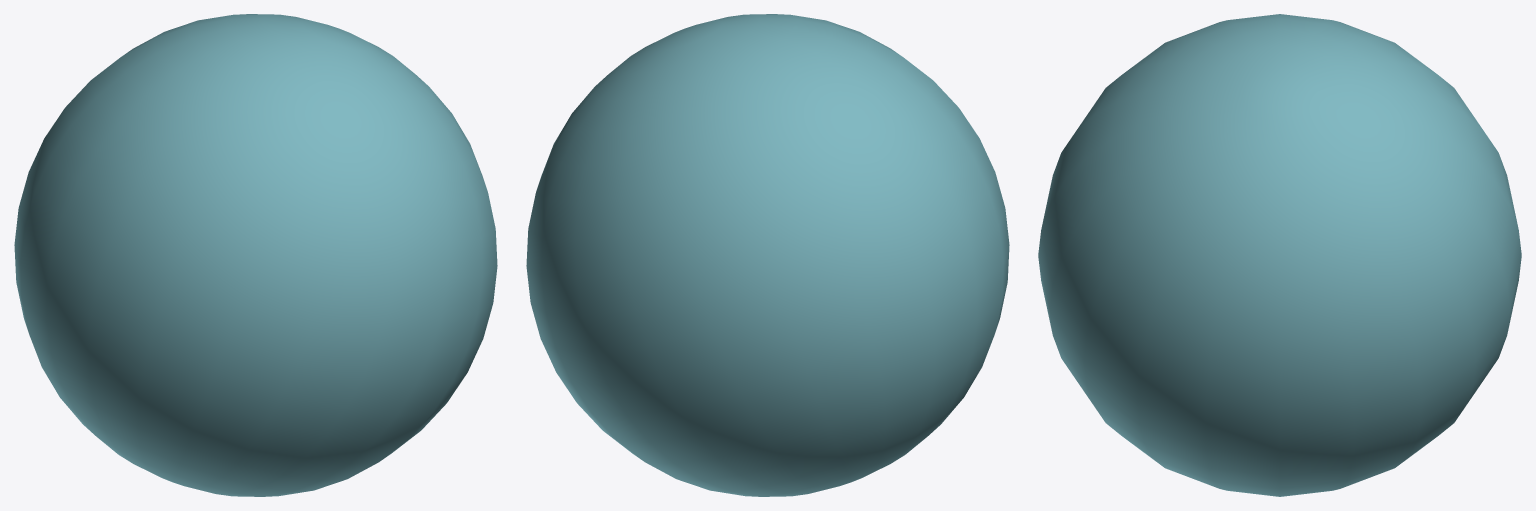
Rendered from Bubble_level3.fbx.
3 views of the same model, side by side, from view 1: azimuth 30°, elevation 25°; view 2: azimuth 150°, elevation 25°; view 3: azimuth 270°, elevation 25° (orthographic).
Parts seen in each view (by area): view 1: bubble; view 2: bubble; view 3: bubble.
Boxes of the visible parts, <box> form: bubble: <box>14,14,497,496</box>; bubble: <box>526,14,1009,496</box>; bubble: <box>1038,14,1521,496</box>.
Size of the model in its own units: 99.75 by 99.75 by 100.
